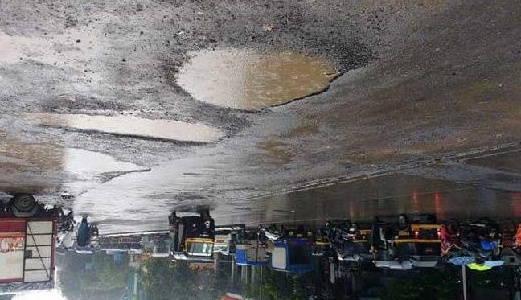pothole: (164, 45, 349, 117), (35, 110, 229, 147), (0, 138, 152, 176)
